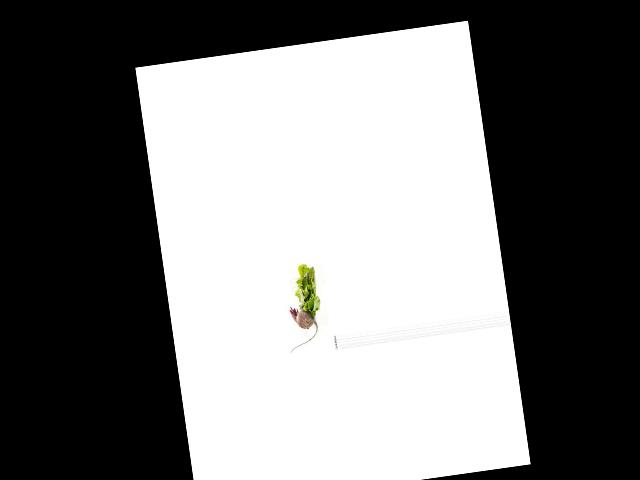beet: (283, 303, 321, 354)
